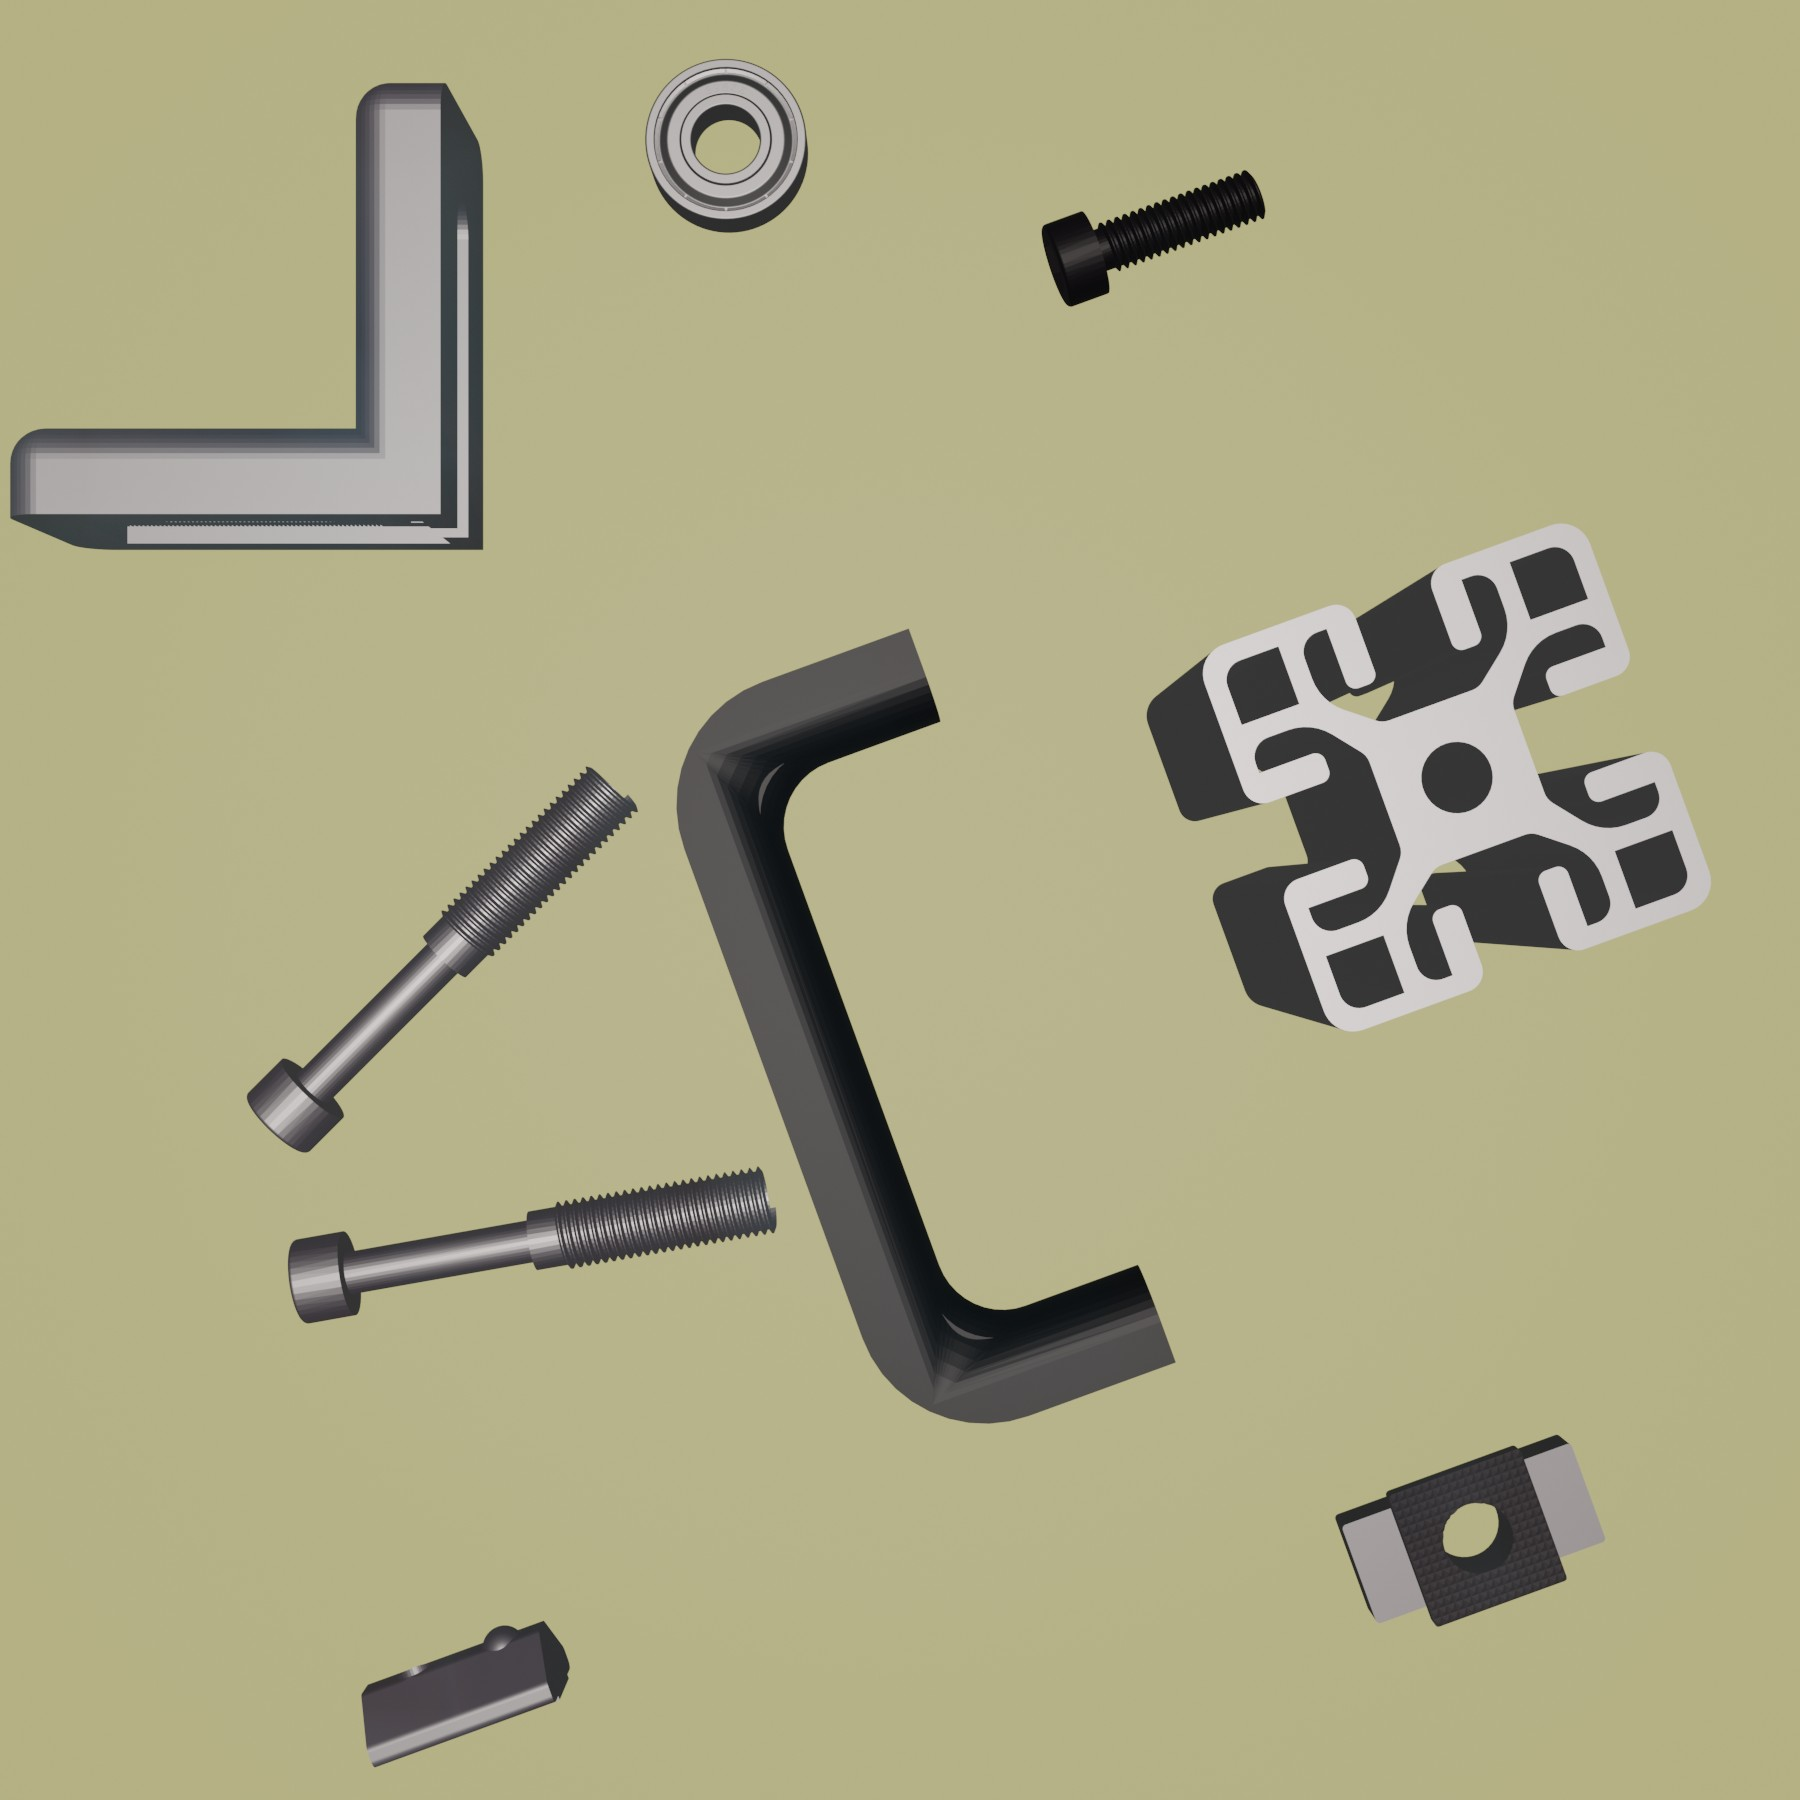Aluminium Extension: (1142, 518, 1718, 1038)
Ball Bearing: (641, 58, 811, 236)
Multiwinkel: (3, 77, 490, 555)
Pull Handle: (673, 626, 1179, 1426)
Shoulder Socket Head Cap Screw: (242, 758, 640, 1155), (287, 1160, 781, 1327)
Socket Head Cap Screw: (1040, 165, 1269, 308)
T Nut Square: (1332, 1431, 1610, 1630)
T Spring Nut: (358, 1615, 574, 1775)
